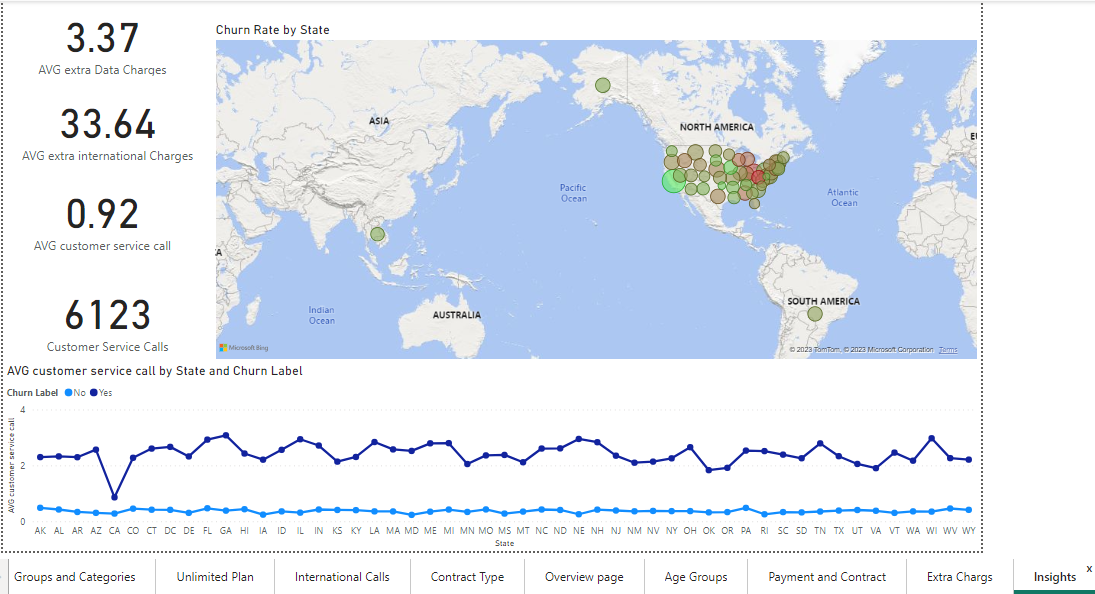

The page's visual inventory and layout, read from the dashboard file:
{"tool":"powerbi","page":{"name":"Insights","canvas":[1280,720],"ordinal":9},"visuals":[{"type":"card","fields":{"Values":["Databel - Data.AVG extra Data Charges"]},"box":[0,0,260.1,103.2],"z":0},{"type":"card","fields":{"Values":["Databel - Data.AVG extra international Charges"]},"box":[0,103.2,273.9,121.1],"z":1},{"type":"card","fields":{"Values":["Sum(Databel - Data.Customer Service Calls)"]},"box":[0,353.7,273.9,119.7],"z":2},{"type":"card","fields":{"Values":["Databel - Data.AVG customer service call"]},"box":[0,224.3,260.1,115.6],"z":3},{"type":"lineChart","fields":{"Y":["Databel - Data.AVG customer service call"],"Series":["Databel - Data.Churn Label"],"Category":["Databel - Data.State"]},"box":[0,473.5,1280,246.4],"z":4},{"type":"map","fields":{"Category":["Databel - Data.State"],"Size":["Databel - Data.Churn Rate"]},"box":[273.9,27.5,1006.1,445.9],"z":5}]}

Visuals, with their boxes on the page's 1280x720 design canvas (x1, y1, x2, y2). These are canvas units, not pixel positions in the 1095x594 screenshot, which may show the page scaled, cropped or inside an application window:
card - Databel - Data.AVG extra Data Charges: [left=0, top=0, right=260, bottom=103]
card - Databel - Data.AVG extra international Charges: [left=0, top=103, right=274, bottom=224]
card - Sum(Databel - Data.Customer Service Calls): [left=0, top=354, right=274, bottom=473]
card - Databel - Data.AVG customer service call: [left=0, top=224, right=260, bottom=340]
lineChart - Databel - Data.AVG customer service call x Databel - Data.Churn Label: [left=0, top=474, right=1280, bottom=720]
map - Databel - Data.State x Databel - Data.Churn Rate: [left=274, top=28, right=1280, bottom=473]
